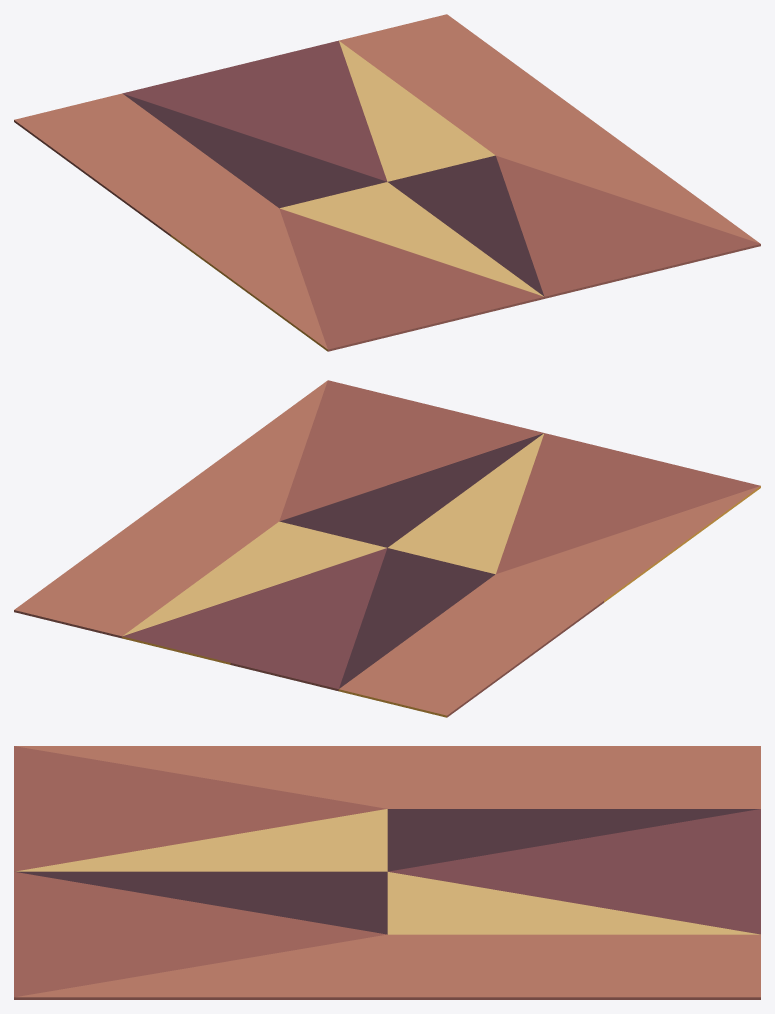
Rendered from Accesories_Carpet.011.glb.
3 renders of one model, top to bottom at view 1: azimuth 30°, elevation 25°; view 2: azimuth 150°, elevation 25°; view 3: azimuth 270°, elevation 25°, orthographic. The views are drawn at different scales.
Visible parts, largest first — view 1: Accesories_Carpet.011; view 2: Accesories_Carpet.011; view 3: Accesories_Carpet.011.
Part boxes in pixels (bbox=[...]): Accesories_Carpet.011: bbox=[14, 14, 760, 351]; Accesories_Carpet.011: bbox=[14, 380, 760, 717]; Accesories_Carpet.011: bbox=[14, 746, 760, 999].
Size of the model in its own units: 3 by 0.0142 by 3.76.
1 material, 1 textured.
